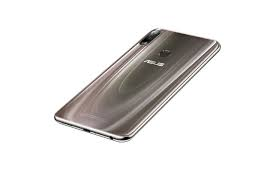asus: (46, 25, 225, 142)
